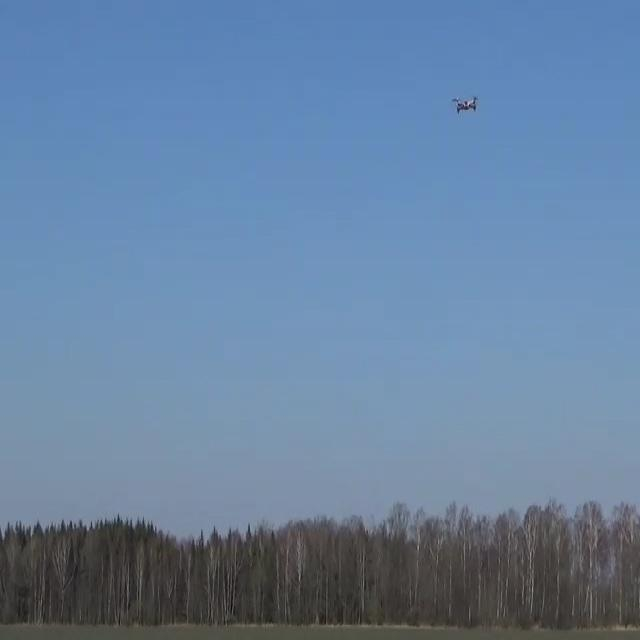drone: (451, 95, 478, 114)
